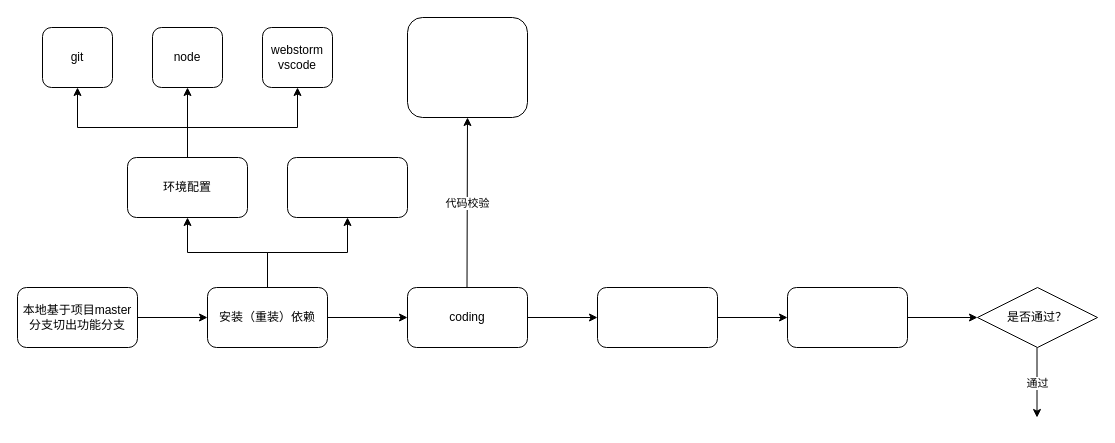
The diagram is 1115 pixels wide and 443 high, and some of its shapes have lost their labels. Here are the shapes that lost their labels. From the top down, the box of each, then its label:
(406, 16, 528, 118): eslint stylelint commitlint husky + lint-staged editorconfig
(286, 156, 408, 218): 包管理器 yarn npm
(596, 286, 718, 348): 推送分支至远程
(786, 286, 908, 348): Merge Request
